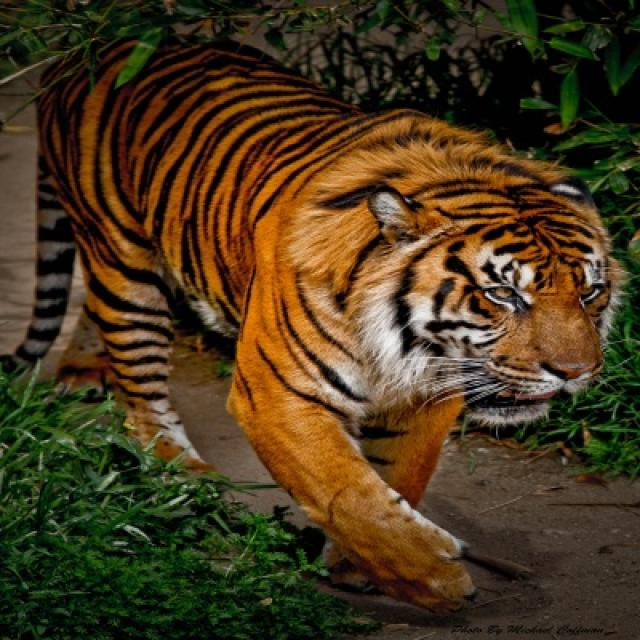Tiger: (18, 38, 622, 610)
